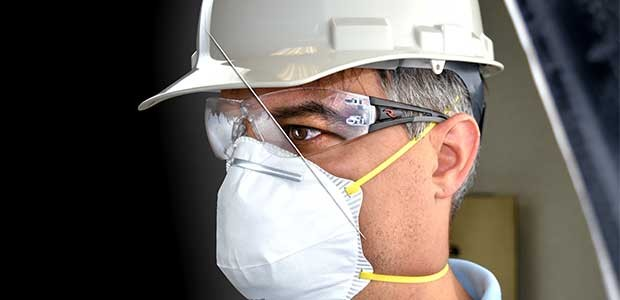Goggles: (198, 87, 458, 161)
with_mask: (213, 91, 372, 300)
